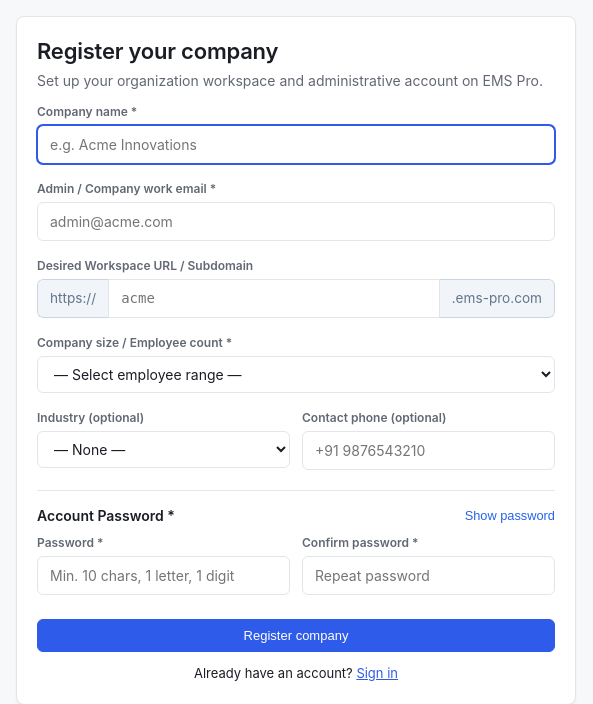
Test: Sub-feature 1.2: RegisterCompanyPage › auto-suggests clean subdomain when typing company name
This screenshot has width=593, height=704.
Type "Acme Corp" into the field labelled "Company name *".
click(296, 144); type("Acme Corp")  # box [37,125,555,164]
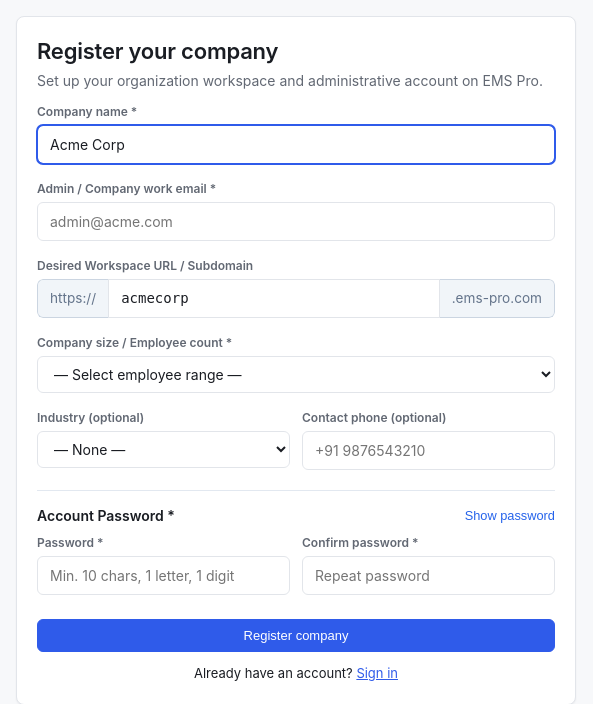
Expected: the field labelled "Desired Workspace URL / Subdomain" holds "acmecorp", [108,279,440,318]
